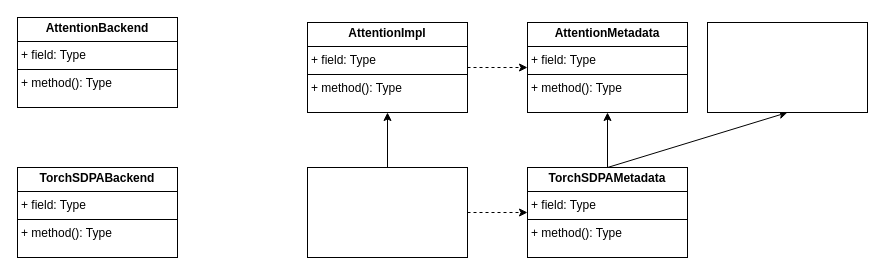
This 885x275 diagram has some shape labels left out. Each missing label, with the centre of its shape:
PagedAttentionMetadata + field: Type + method(): Type: the point at 787,67
TorchSDPABackendImpl + field: Type + method(): Type: the point at 387,212
